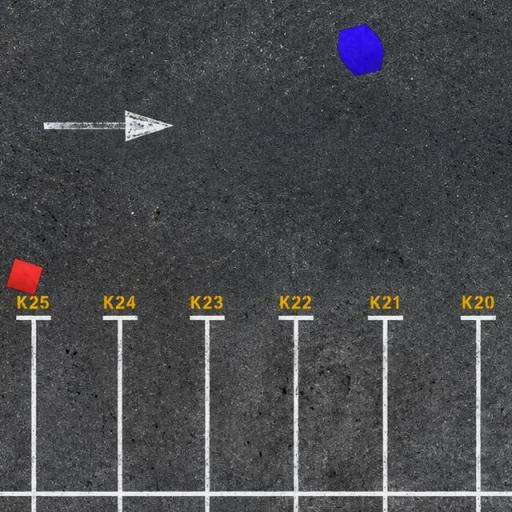RED_SQUARE: (5, 258, 44, 296)
